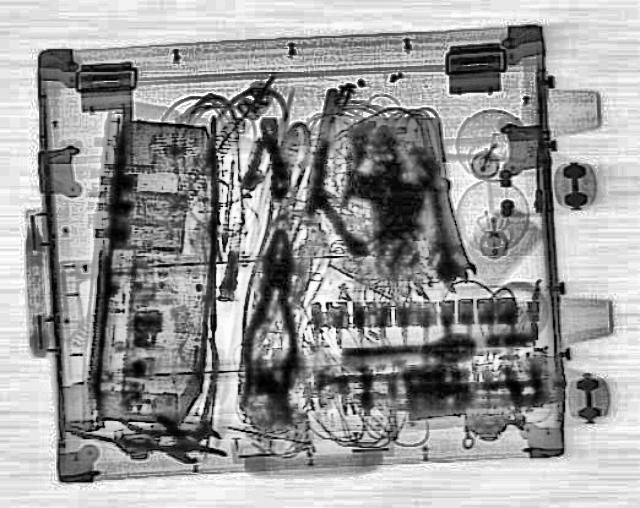Pliers: (90, 334, 276, 468), (234, 227, 306, 409)
Wrench: (420, 178, 470, 294)
